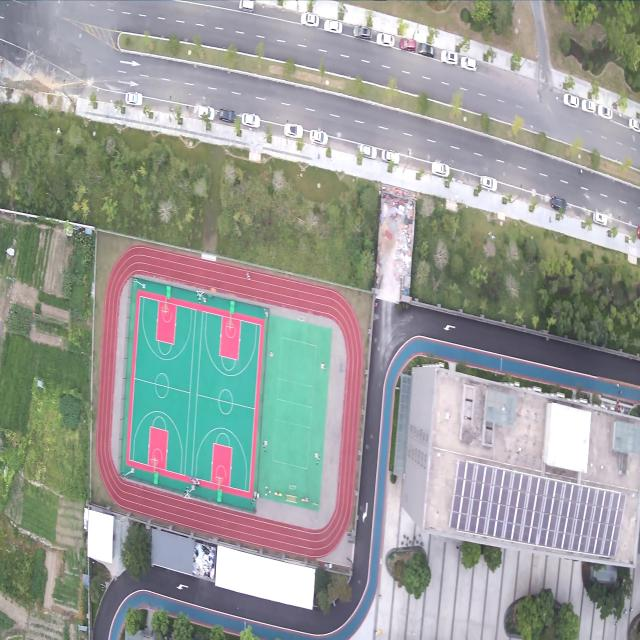UAV: (296, 217, 306, 224)
